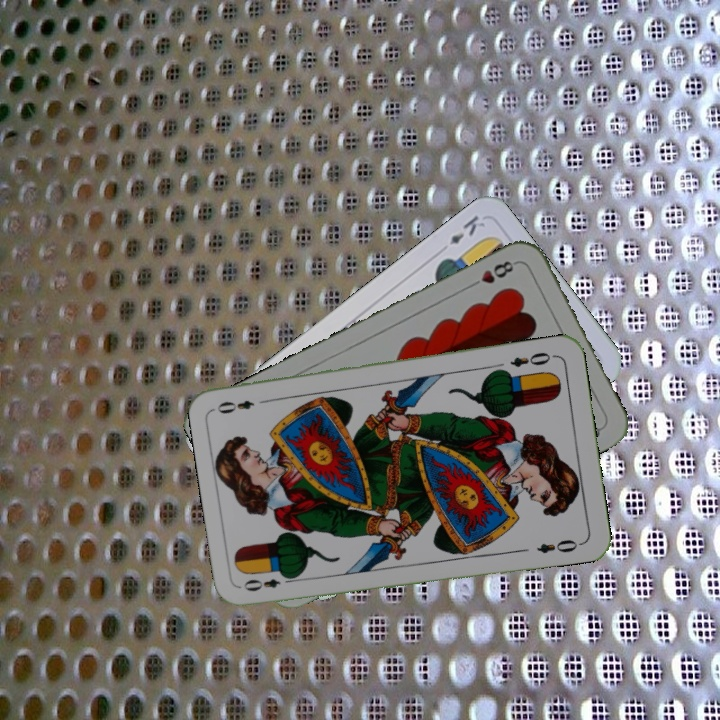EK: (445, 211, 488, 248)
EO: (239, 570, 298, 594), (506, 348, 558, 370)
H8: (465, 256, 520, 291)
